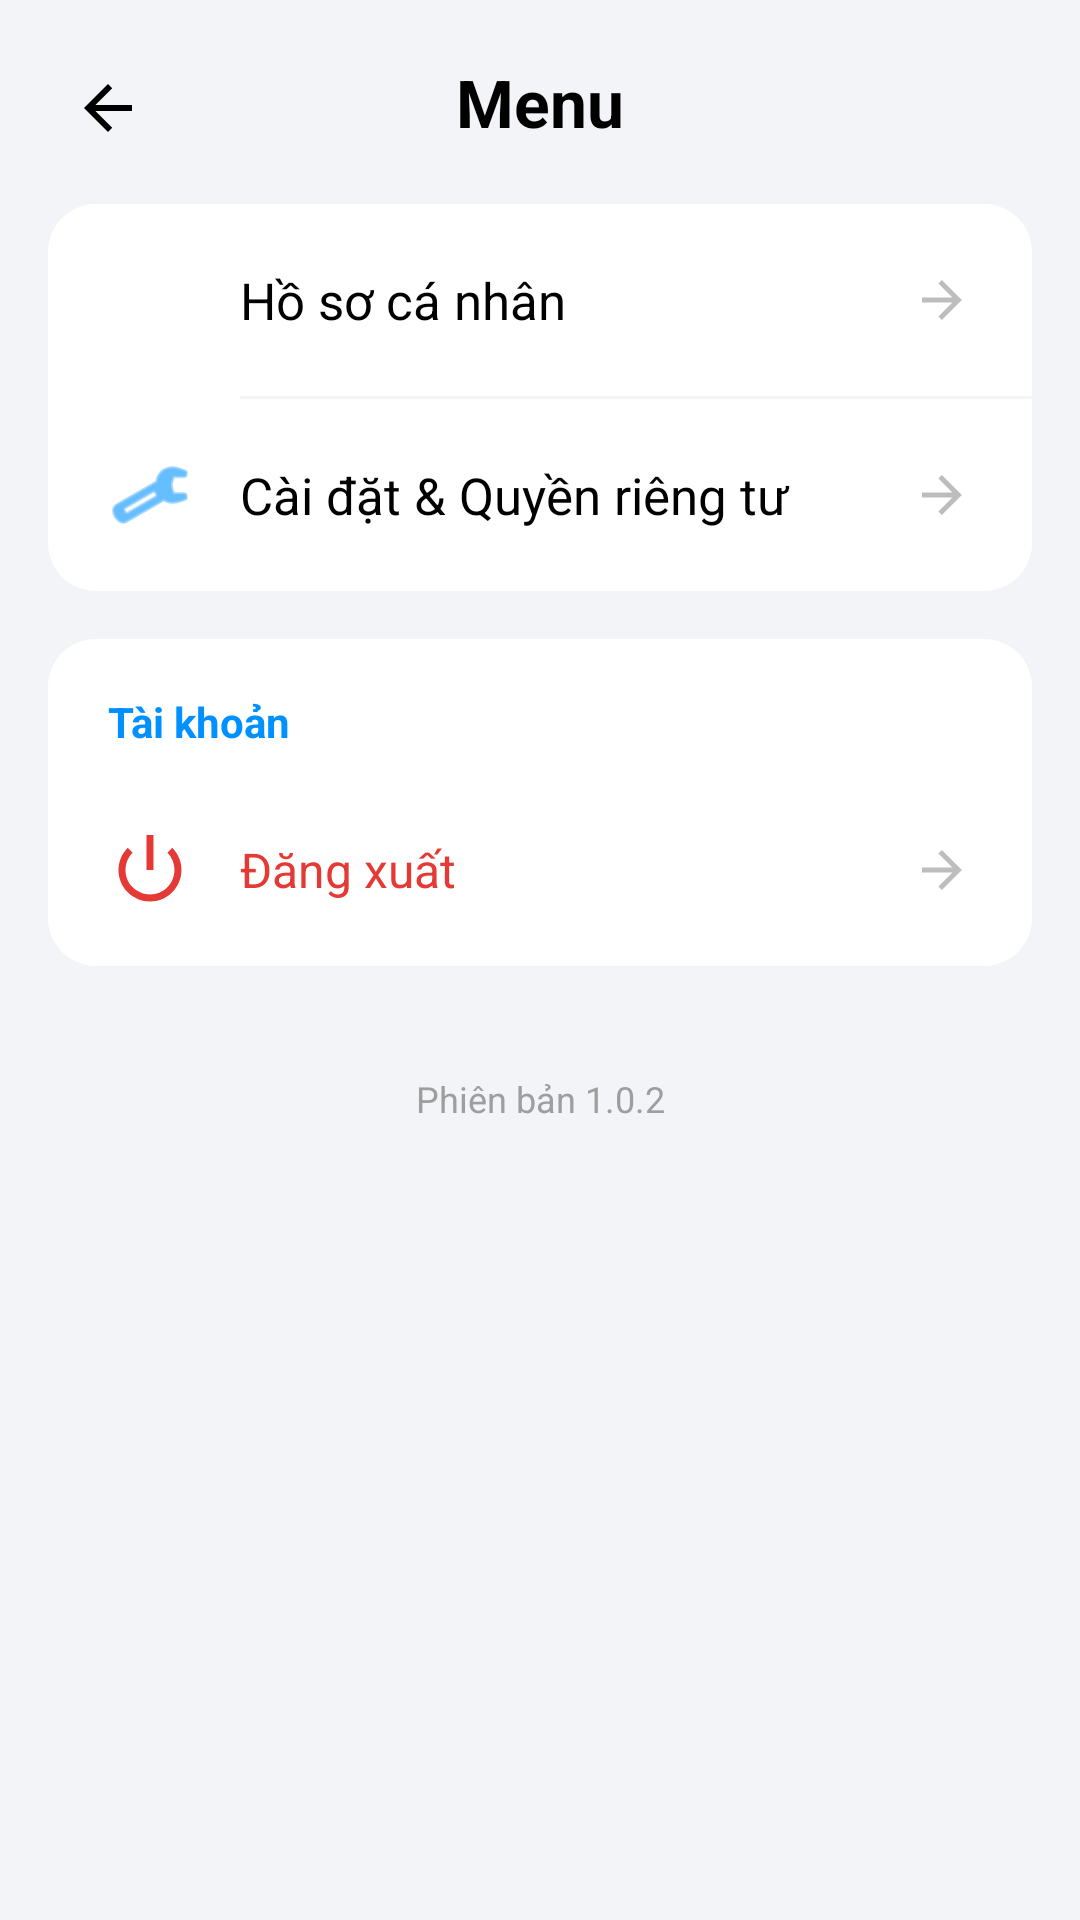

Point at icon controls on the screen. Image size 1080 x 1920, points as (x,y).
Back: (108,108)
lock power off: (150,868)
preferences: (150,495)
